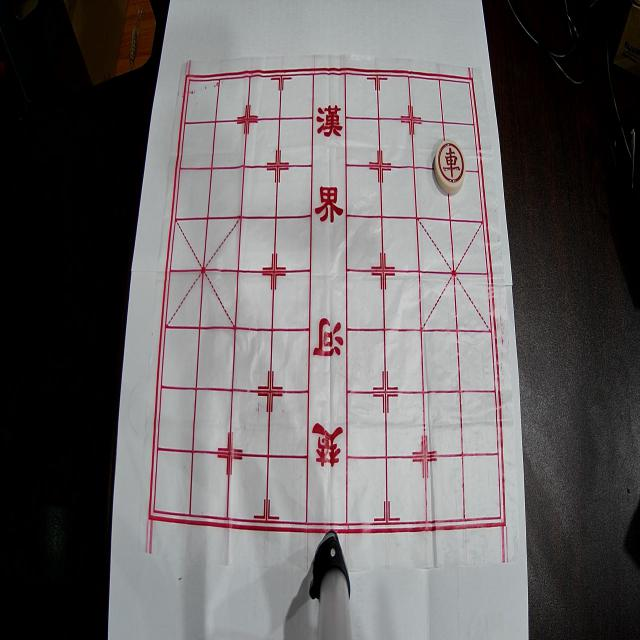red-chariot: (434, 140, 466, 195)
